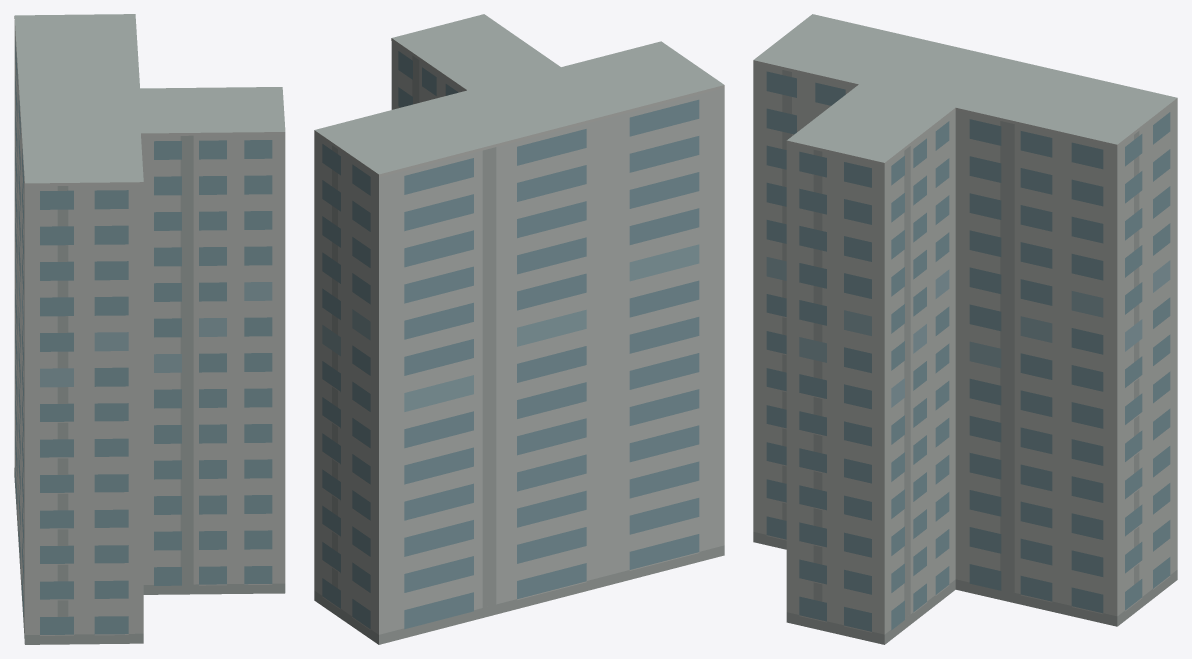
The model's file is residential-80e12c6e-d454-4026-86b0-7327bca7316d.glb.
The picture shows the model from 3 angles, left to right: view 1: azimuth 30°, elevation 25°; view 2: azimuth 150°, elevation 25°; view 3: azimuth 270°, elevation 25°; orthographic projection. The views are drawn at different scales.
Visible parts, largest first — view 1: residential-80e12c6e-d454-4026-86b0-7327bca7316d.tmp; view 2: residential-80e12c6e-d454-4026-86b0-7327bca7316d.tmp; view 3: residential-80e12c6e-d454-4026-86b0-7327bca7316d.tmp.
Part boxes in pixels (box(x1,y1,x2,y2)): residential-80e12c6e-d454-4026-86b0-7327bca7316d.tmp: box(14, 14, 285, 644); residential-80e12c6e-d454-4026-86b0-7327bca7316d.tmp: box(314, 14, 724, 644); residential-80e12c6e-d454-4026-86b0-7327bca7316d.tmp: box(753, 14, 1177, 644).
Size of the model in its own units: 25.85 by 39 by 31.12.
